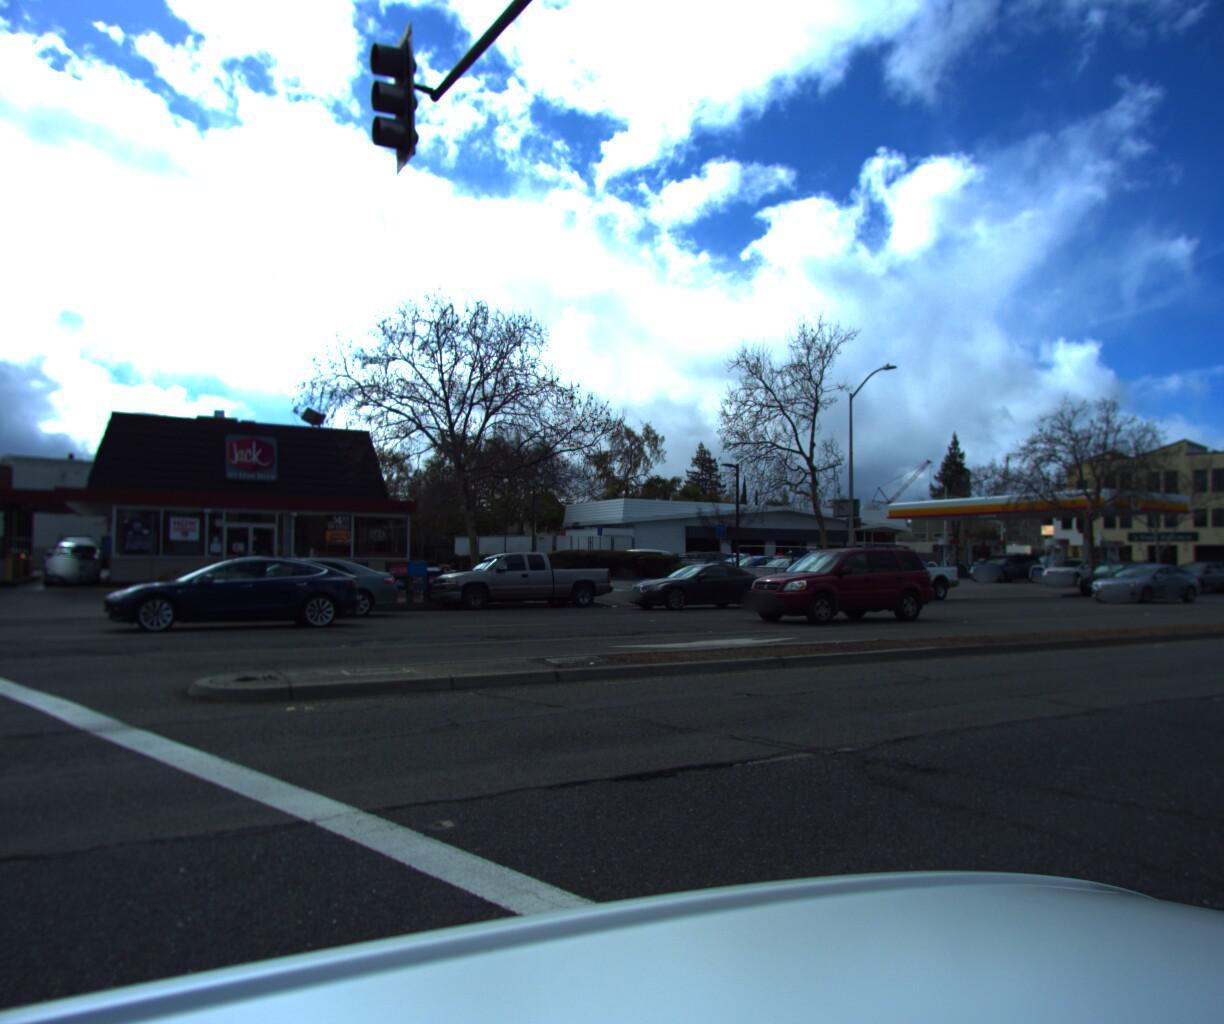car: (87, 560, 360, 642), (739, 544, 946, 631), (201, 553, 410, 628), (418, 554, 616, 622), (812, 553, 962, 611), (625, 564, 777, 615), (1086, 565, 1204, 610), (1064, 561, 1160, 603), (1145, 562, 1224, 600), (747, 560, 838, 592), (959, 554, 1043, 587), (718, 558, 804, 590), (39, 551, 104, 593), (1029, 559, 1112, 590), (617, 551, 694, 583), (1199, 568, 1224, 598)
